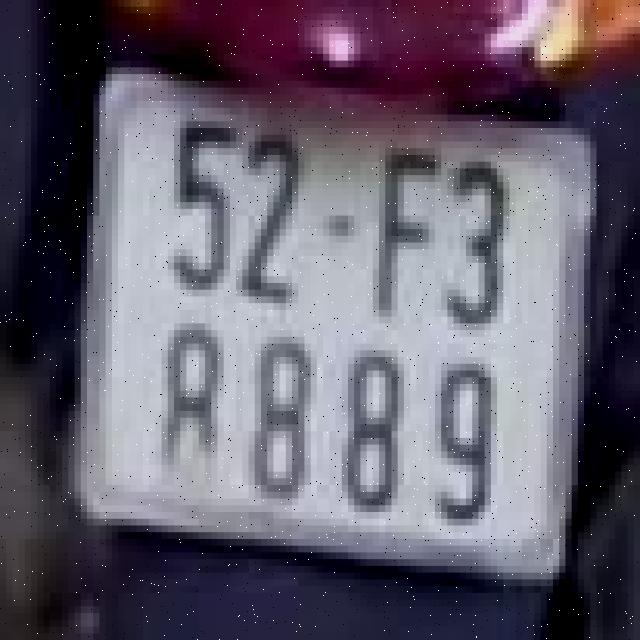2: (242, 118, 304, 320)
3: (441, 142, 522, 344)
5: (158, 118, 240, 300)
8: (146, 313, 233, 495), (336, 350, 416, 532), (245, 337, 320, 512)
9: (426, 357, 494, 532)
F: (357, 135, 438, 323)
